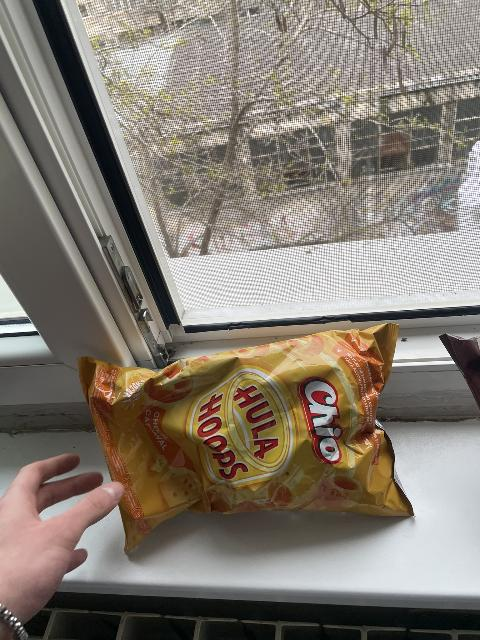Chio Hula Hoops Cheese 70g: (79, 322, 413, 550)
